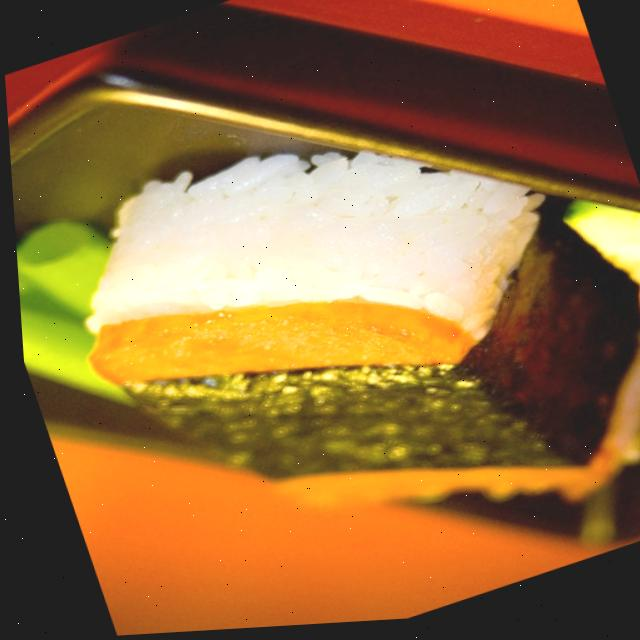寿司卷物: (7, 12, 640, 634)
